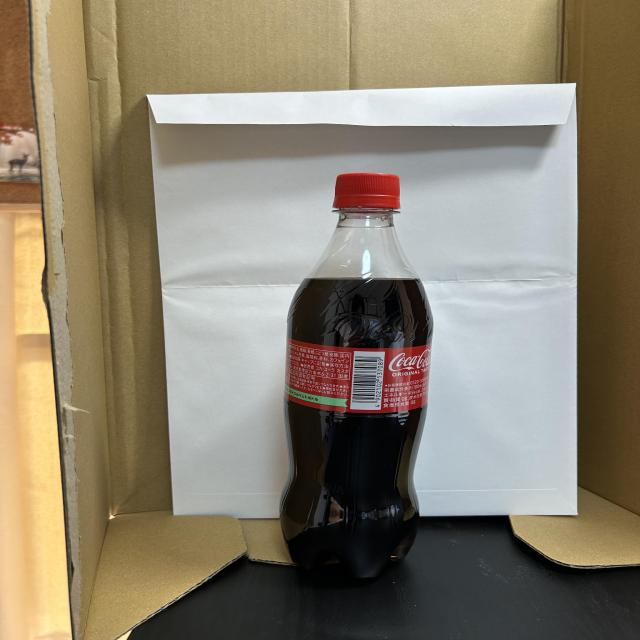medium: (280, 172, 433, 577)
